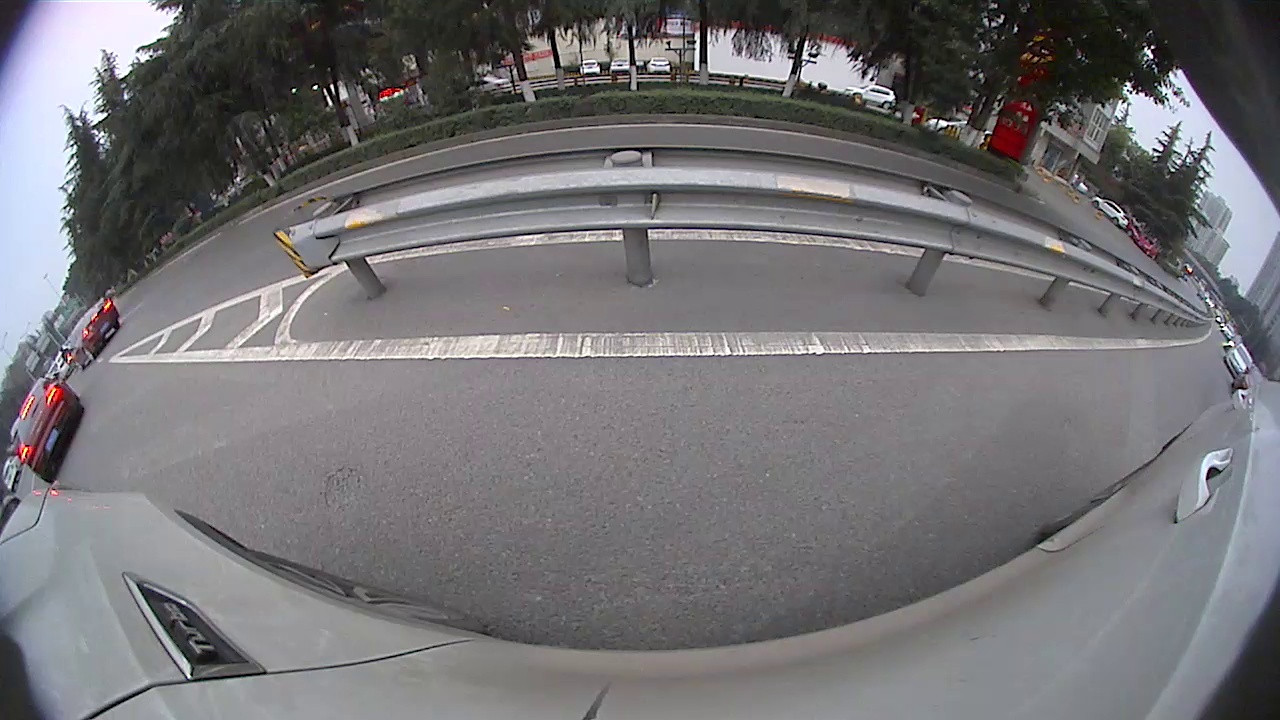car: (14, 373, 88, 487), (66, 293, 123, 369), (1221, 341, 1257, 381)
rear: (82, 346, 98, 363)
